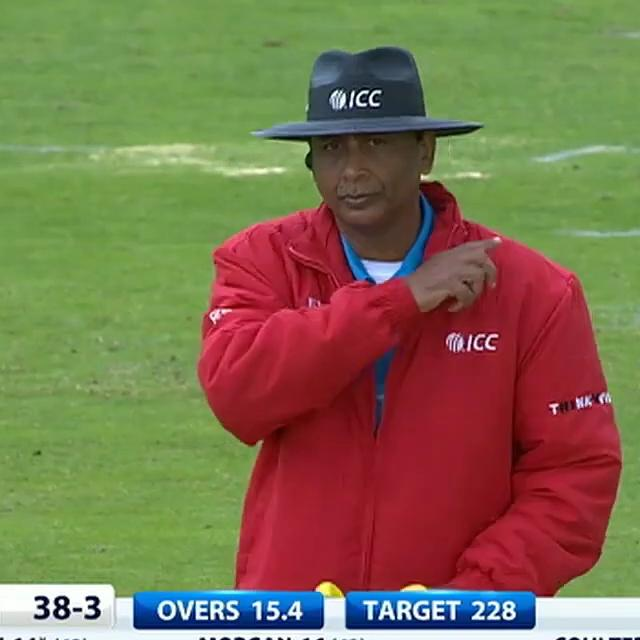umpire: (171, 14, 640, 595)
